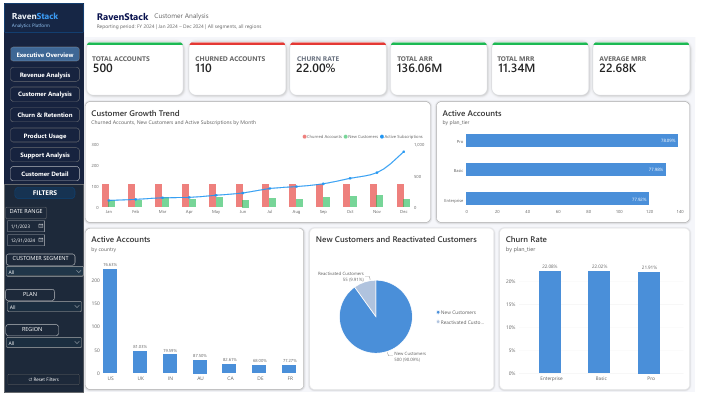

The page's visual inventory and layout, read from the dashboard file:
{"tool":"powerbi","page":{"name":"Executive Overview","canvas":[1920,1080],"ordinal":0},"visuals":[{"type":"shape","box":[0,-8,220,1088],"z":0},{"type":"shape","box":[218,96,288,168],"z":0,"group":"g8"},{"type":"shape","box":[503,96,288,168],"z":0,"group":"g9"},{"type":"shape","box":[783,96,288,168],"z":0,"group":"g10"},{"type":"shape","box":[1063,96,288,168],"z":0,"group":"g11"},{"type":"shape","box":[1345,96,288,168],"z":0,"group":"g12"},{"type":"shape","box":[1626,96,288,168],"z":0,"group":"g13"},{"type":"slicer","fields":{"Values":["public accounts.industry"]},"box":[0,724.5,224,48.2],"z":0,"group":"g19"},{"type":"slicer","fields":{"Values":["public accounts.plan_tier"]},"box":[3,821.9,216,48.2],"z":0,"group":"g21"},{"type":"slicer","fields":{"Values":["public accounts.country"]},"box":[0,922.3,219,48.2],"z":0,"group":"g22"},{"type":"textbox","box":[0,0,224,80],"z":1000},{"type":"textbox","box":[4,695.4,192,32.1],"z":1000,"group":"g19"},{"type":"textbox","box":[2,792.8,137,32.1],"z":1000,"group":"g21"},{"type":"textbox","box":[3,891.2,147,32.1],"z":1000,"group":"g22"},{"type":"textbox","box":[0,32,224,48],"z":2000},{"type":"actionButton","box":[16,120,192,40.2],"z":3000,"group":"g18"},{"type":"actionButton","box":[16,176.2,192,40.2],"z":4000,"group":"g18"},{"type":"actionButton","box":[16,231.5,192,40.2],"z":5000,"group":"g18"},{"type":"actionButton","box":[16,288.7,192,40.2],"z":7000,"group":"g18"},{"type":"actionButton","box":[16,344.9,192,40.2],"z":8000,"group":"g18"},{"type":"actionButton","box":[16,400.2,192,40.2],"z":9000,"group":"g18"},{"type":"lineClusteredColumnComboChart","title":"Customer Growth Trend","fields":{"Y":["public accounts.Churned Accounts","DimDate.New Customers"],"Y2":["public accounts.Active Subscriptions"],"Category":["DimDate.Month"]},"box":[224,272,960,336],"z":10000},{"type":"actionButton","box":[16,452.4,192,40.2],"z":10000,"group":"g18"},{"type":"group","id":"g1","title":"Group 6","box":[218,96,1702,984],"z":11000},{"type":"textbox","box":[1653,140,176,96],"z":12000},{"type":"clusteredBarChart","fields":{"Category":["public accounts.plan_tier"],"Y":["public accounts.Active Accounts"]},"box":[1200,272,704,336],"z":13000},{"type":"clusteredColumnChart","fields":{"Category":["public accounts.country"],"Y":["public accounts.Active Accounts"]},"box":[224,624,608,448],"z":14000},{"type":"cardVisual","fields":{"Data":["public accounts.Total Accounts"]},"box":[229.5,107.6,266.1,134.4],"z":14001,"group":"g8"},{"type":"cardVisual","fields":{"Data":["public accounts.Churned Accounts"]},"box":[514.5,107.6,266.1,134.4],"z":14001,"group":"g9"},{"type":"cardVisual","fields":{"Data":["public accounts.Churn Rate"]},"box":[794.5,107.6,266.1,134.4],"z":14001,"group":"g10"},{"type":"cardVisual","fields":{"Data":["public subscriptions.Total ARR"]},"box":[1074.5,107.6,266.1,134.4],"z":14001,"group":"g11"},{"type":"cardVisual","fields":{"Data":["public subscriptions.Total MRR"]},"box":[1356.5,107.6,266.1,134.4],"z":14001,"group":"g12"},{"type":"cardVisual","fields":{"Data":["public subscriptions.Average MRR"]},"box":[1637.5,107.6,266.1,134.4],"z":14001,"group":"g13"},{"type":"group","id":"g2","title":"Group 2","box":[218,96,288,168],"z":14011,"group":"g20"},{"type":"group","id":"g3","title":"Group 2","box":[503,96,288,168],"z":14011,"group":"g14"},{"type":"group","id":"g4","title":"Group 2","box":[783,96,288,168],"z":14011,"group":"g15"},{"type":"group","id":"g5","title":"Group 2","box":[1063,96,288,168],"z":14011,"group":"g16"},{"type":"group","id":"g6","title":"Group 2","box":[1345,96,288,168],"z":14011,"group":"g17"},{"type":"group","id":"g7","title":"Group 2","box":[1626,96,288,168],"z":14011,"group":"g23"},{"type":"group","id":"g8","title":"Group 3","box":[218,96,288,168],"z":14012,"group":"g2"},{"type":"group","id":"g9","title":"Group 3","box":[503,96,288,168],"z":14012,"group":"g3"},{"type":"group","id":"g10","title":"Group 3","box":[783,96,288,168],"z":14012,"group":"g4"},{"type":"group","id":"g11","title":"Group 3","box":[1063,96,288,168],"z":14012,"group":"g5"},{"type":"group","id":"g12","title":"Group 3","box":[1345,96,288,168],"z":14012,"group":"g6"},{"type":"group","id":"g13","title":"Group 3","box":[1626,96,288,168],"z":14012,"group":"g7"},{"type":"pieChart","fields":{"Y":["DimDate.New Customers","DimDate.Reactivated Customers"]},"box":[848,624,512,448],"z":15000},{"type":"shape","box":[224,0,1701,93],"z":15500},{"type":"clusteredColumnChart","fields":{"Category":["public accounts.plan_tier"],"Y":["public accounts.Churn Rate"]},"box":[1376,624,528,448],"z":16000},{"type":"textbox","box":[256,16,144,64],"z":18500},{"type":"textbox","box":[1770,96,150,984],"z":18501,"group":"g1"},{"type":"group","id":"g14","title":"Group 1","box":[503,96,288,168],"z":19000,"group":"g24"},{"type":"group","id":"g15","title":"Group 1","box":[783,96,288,168],"z":19000,"group":"g26"},{"type":"group","id":"g16","title":"Group 1","box":[1063,96,288,168],"z":19000,"group":"g28"},{"type":"group","id":"g17","title":"Group 1","box":[1345,96,288,168],"z":19000,"group":"g27"},{"type":"textbox","box":[416,21,240,48],"z":19001},{"type":"textbox","box":[256,54,784,32],"z":19502},{"type":"group","id":"g18","title":"Group 6","box":[0,120,224,960],"z":19503},{"type":"shape","box":[0,0,219,80],"z":19504},{"type":"shape","box":[0,501.6,220,578.4],"z":21000,"group":"g18"},{"type":"textbox","box":[28,509.6,168,32.1],"z":22000,"group":"g18"},{"type":"slicer","fields":{"Values":["DimDate.Date"]},"box":[0,598,222,77.3],"z":23000,"group":"g18"},{"type":"textbox","box":[3,564.9,113,32.1],"z":24000,"group":"g18"},{"type":"group","id":"g19","title":"Group 5","box":[0,695.4,224,77.3],"z":25000,"group":"g18"},{"type":"group","id":"g20","title":"Group 1","box":[218,96,288,168],"z":26000,"group":"g25"},{"type":"group","id":"g21","title":"Group 5","box":[2,792.8,217,77.3],"z":26000,"group":"g18"},{"type":"textbox","box":[243,138,336,72],"z":27000,"group":"g25"},{"type":"textbox","box":[530,138,240,48],"z":27000,"group":"g24"},{"type":"textbox","box":[813,138,144,32],"z":27000,"group":"g26"},{"type":"textbox","box":[1091,138,120,48],"z":27000,"group":"g28"},{"type":"textbox","box":[1369,138,120,48],"z":27000,"group":"g27"},{"type":"group","id":"g22","title":"Group 5","box":[0,891.2,219,79.3],"z":27000,"group":"g18"},{"type":"actionButton","box":[0,1019.7,217,48.2],"z":28000,"group":"g18"},{"type":"group","id":"g23","title":"Group 1","box":[1626,96,288,176],"z":32000,"group":"g1"},{"type":"group","id":"g24","title":"Group 4","box":[503,96,288,168],"z":33000,"group":"g1"},{"type":"group","id":"g25","title":"Group 5","box":[218,96,361,168],"z":34000,"group":"g1"},{"type":"group","id":"g26","title":"Group 4","box":[783,96,288,168],"z":35000,"group":"g1"},{"type":"group","id":"g27","title":"Group 4","box":[1345,96,288,168],"z":36000,"group":"g1"},{"type":"group","id":"g28","title":"Group 4","box":[1063,96,288,168],"z":37000,"group":"g1"}]}

Visuals, with their boxes on the page's 1920x1080 design canvas (x1, y1, x2, y2). These are canvas units, not pixel positions in the 701x398 screenshot, which may show the page scaled, cropped or inside an application window:
shape: select_region(0, -8, 220, 1080)
shape: select_region(218, 96, 506, 264)
shape: select_region(503, 96, 791, 264)
shape: select_region(783, 96, 1071, 264)
shape: select_region(1063, 96, 1351, 264)
shape: select_region(1345, 96, 1633, 264)
shape: select_region(1626, 96, 1914, 264)
slicer - public accounts.industry: select_region(0, 724, 224, 773)
slicer - public accounts.plan_tier: select_region(3, 822, 219, 870)
slicer - public accounts.country: select_region(0, 922, 219, 970)
textbox: select_region(0, 0, 224, 80)
textbox: select_region(4, 695, 196, 728)
textbox: select_region(2, 793, 139, 825)
textbox: select_region(3, 891, 150, 923)
textbox: select_region(0, 32, 224, 80)
actionButton: select_region(16, 120, 208, 160)
actionButton: select_region(16, 176, 208, 216)
actionButton: select_region(16, 232, 208, 272)
actionButton: select_region(16, 289, 208, 329)
actionButton: select_region(16, 345, 208, 385)
actionButton: select_region(16, 400, 208, 440)
"Customer Growth Trend" lineClusteredColumnComboChart: select_region(224, 272, 1184, 608)
actionButton: select_region(16, 452, 208, 493)
"Group 6" group: select_region(218, 96, 1920, 1080)
textbox: select_region(1653, 140, 1829, 236)
clusteredBarChart - public accounts.plan_tier x public accounts.Active Accounts: select_region(1200, 272, 1904, 608)
clusteredColumnChart - public accounts.country x public accounts.Active Accounts: select_region(224, 624, 832, 1072)
cardVisual - public accounts.Total Accounts: select_region(230, 108, 496, 242)
cardVisual - public accounts.Churned Accounts: select_region(514, 108, 781, 242)
cardVisual - public accounts.Churn Rate: select_region(794, 108, 1061, 242)
cardVisual - public subscriptions.Total ARR: select_region(1074, 108, 1341, 242)
cardVisual - public subscriptions.Total MRR: select_region(1356, 108, 1623, 242)
cardVisual - public subscriptions.Average MRR: select_region(1638, 108, 1904, 242)
"Group 2" group: select_region(218, 96, 506, 264)
"Group 2" group: select_region(503, 96, 791, 264)
"Group 2" group: select_region(783, 96, 1071, 264)
"Group 2" group: select_region(1063, 96, 1351, 264)
"Group 2" group: select_region(1345, 96, 1633, 264)
"Group 2" group: select_region(1626, 96, 1914, 264)
"Group 3" group: select_region(218, 96, 506, 264)
"Group 3" group: select_region(503, 96, 791, 264)
"Group 3" group: select_region(783, 96, 1071, 264)
"Group 3" group: select_region(1063, 96, 1351, 264)
"Group 3" group: select_region(1345, 96, 1633, 264)
"Group 3" group: select_region(1626, 96, 1914, 264)
pieChart - DimDate.New Customers x DimDate.Reactivated Customers: select_region(848, 624, 1360, 1072)
shape: select_region(224, 0, 1925, 93)
clusteredColumnChart - public accounts.plan_tier x public accounts.Churn Rate: select_region(1376, 624, 1904, 1072)
textbox: select_region(256, 16, 400, 80)
textbox: select_region(1770, 96, 1920, 1080)
"Group 1" group: select_region(503, 96, 791, 264)
"Group 1" group: select_region(783, 96, 1071, 264)
"Group 1" group: select_region(1063, 96, 1351, 264)
"Group 1" group: select_region(1345, 96, 1633, 264)
textbox: select_region(416, 21, 656, 69)
textbox: select_region(256, 54, 1040, 86)
"Group 6" group: select_region(0, 120, 224, 1080)
shape: select_region(0, 0, 219, 80)
shape: select_region(0, 502, 220, 1080)
textbox: select_region(28, 510, 196, 542)
slicer - DimDate.Date: select_region(0, 598, 222, 675)
textbox: select_region(3, 565, 116, 597)
"Group 5" group: select_region(0, 695, 224, 773)
"Group 1" group: select_region(218, 96, 506, 264)
"Group 5" group: select_region(2, 793, 219, 870)
textbox: select_region(243, 138, 579, 210)
textbox: select_region(530, 138, 770, 186)
textbox: select_region(813, 138, 957, 170)
textbox: select_region(1091, 138, 1211, 186)
textbox: select_region(1369, 138, 1489, 186)
"Group 5" group: select_region(0, 891, 219, 970)
actionButton: select_region(0, 1020, 217, 1068)
"Group 1" group: select_region(1626, 96, 1914, 272)
"Group 4" group: select_region(503, 96, 791, 264)
"Group 5" group: select_region(218, 96, 579, 264)
"Group 4" group: select_region(783, 96, 1071, 264)
"Group 4" group: select_region(1345, 96, 1633, 264)
"Group 4" group: select_region(1063, 96, 1351, 264)
